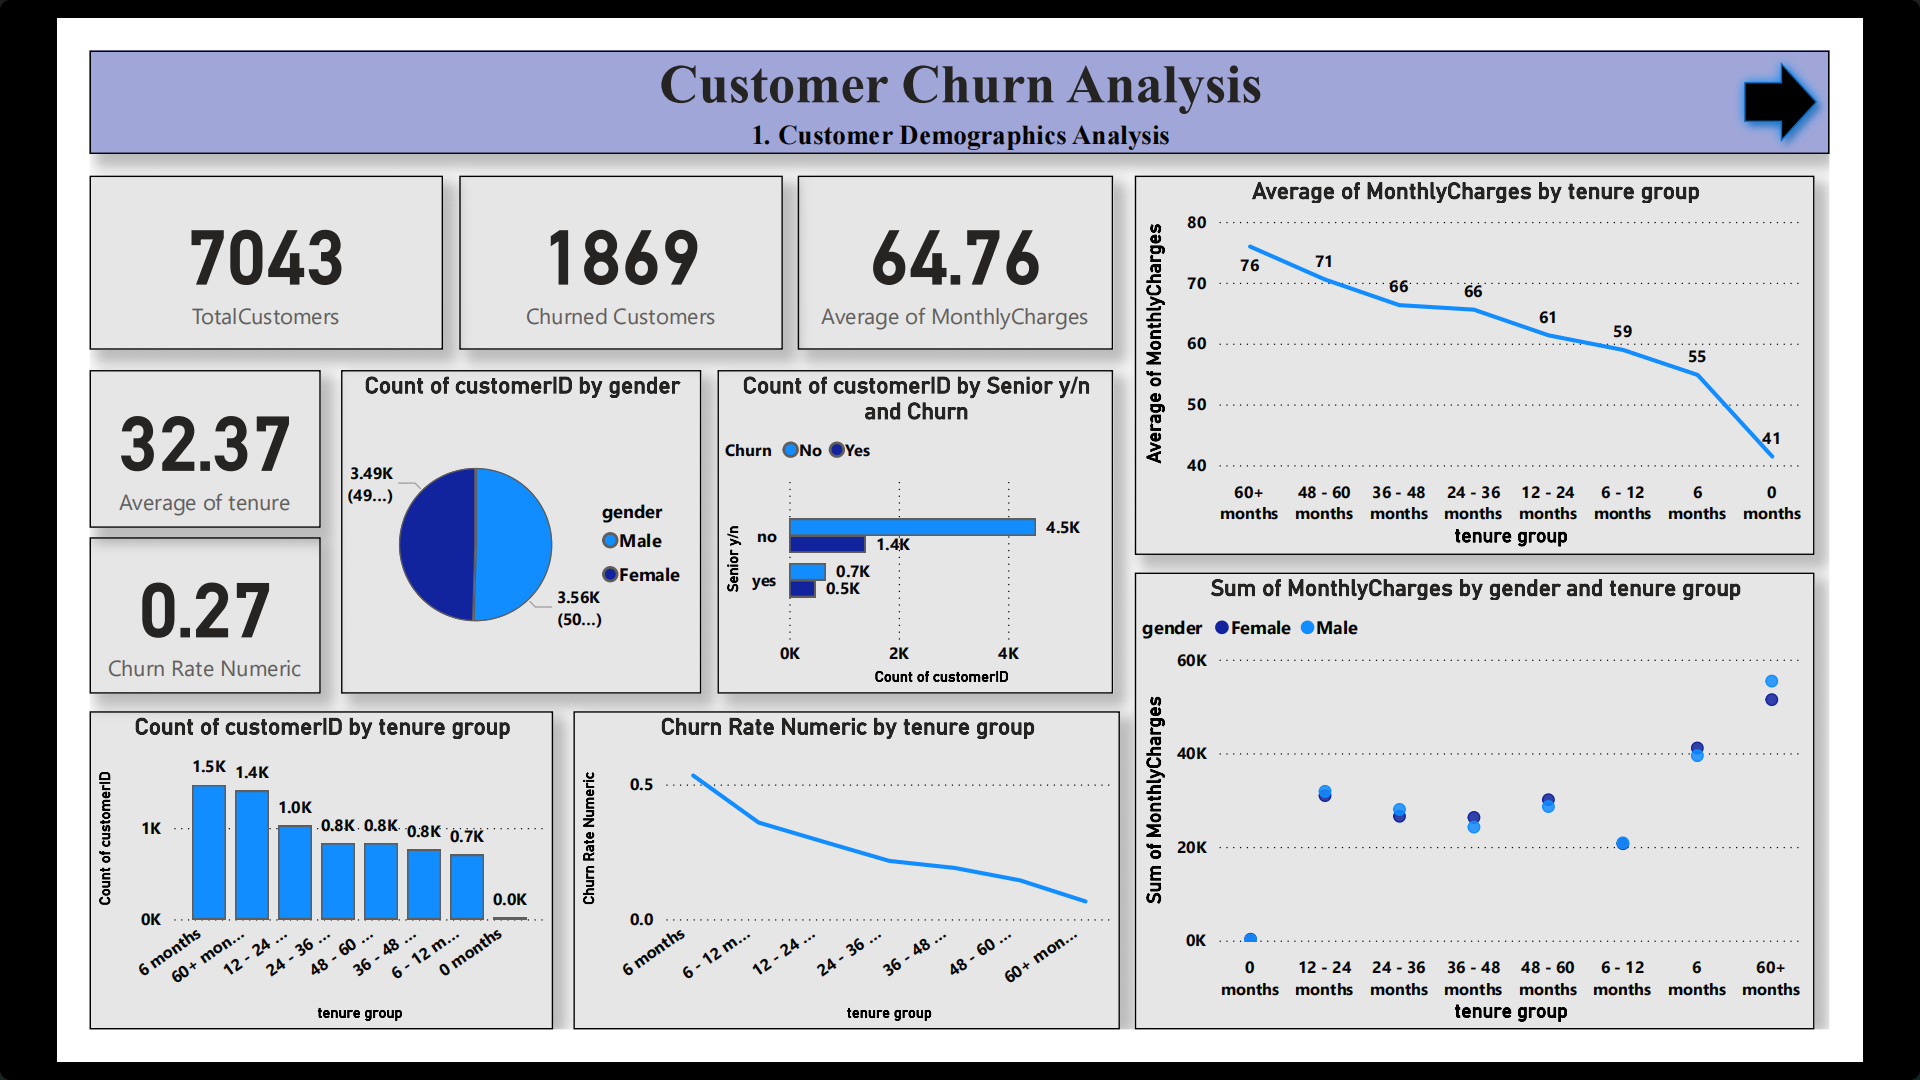

What the dashboard file says about the page in this screenshot:
{"tool":"powerbi","page":{"name":"Page 1","canvas":[1280,720],"ordinal":0},"visuals":[{"type":"textbox","title":"Customer Churn Analysis","box":[0,0,1280,75.9],"z":0},{"type":"pieChart","fields":{"Category":["WA_Fn-UseC_-Telco-Customer-Churn.gender"],"Y":["CountNonNull(WA_Fn-UseC_-Telco-Customer-Churn.customerID)"]},"box":[185.3,235.1,265,237.6],"z":1000},{"type":"clusteredBarChart","fields":{"Category":["Data set.Senior y/n"],"Series":["Data set.Churn"],"Y":["CountNonNull(Data set.customerID)"]},"box":[461.5,235.1,291.1,237.6],"z":2000},{"type":"clusteredColumnChart","fields":{"Y":["CountNonNull(Data set.customerID)"],"Category":["Data set.tenure group"]},"box":[0,486.4,340.8,233.9],"z":3000},{"type":"card","fields":{"Values":["Data set.Churn Rate Numeric"]},"box":[0,358.3,170.4,114.4],"z":4000},{"type":"card","fields":{"Values":["Avg(Data set.MonthlyCharges)"]},"box":[521.2,92.1,231.4,128.1],"z":5000},{"type":"card","fields":{"Values":["Data set.Churned Customers"]},"box":[272.4,92.1,237.6,128.1],"z":6000},{"type":"card","fields":{"Values":["Data set.TotalCustomers"]},"box":[0,92.1,260,128.1],"z":7000},{"type":"card","fields":{"Values":["Avg(Data set.tenure)"]},"box":[0,235.1,170.4,115.7],"z":8000},{"type":"lineChart","fields":{"Category":["Data set.tenure group"],"Y":["Data set.Churn Rate Numeric"]},"box":[355.8,486.4,401.8,233.9],"z":9000},{"type":"lineChart","fields":{"Category":["Data set.tenure group"],"Y":["Avg(Data set.MonthlyCharges)"]},"box":[768.8,92.1,500.1,278.6],"z":10000},{"type":"scatterChart","fields":{"Series":["Data set.gender"],"Y":["Sum(Data set.MonthlyCharges)"],"X":["Data set.tenure group"]},"box":[768.8,384.4,500.1,335.9],"z":11000},{"type":"shape","box":[1209.1,0,70.9,75.9],"z":12000}]}

Visuals, with their boxes in screenshot pixels (x1, y1, x2, y2), scaled from the page's 1280x720 canvas onto the 1920x1080 screenshot:
"Customer Churn Analysis" textbox: bbox(0, 0, 1919, 114)
pieChart - WA_Fn-UseC_-Telco-Customer-Churn.gender x CountNonNull(WA_Fn-UseC_-Telco-Customer-Churn.customerID): bbox(278, 353, 675, 709)
clusteredBarChart - Data set.Senior y/n x Data set.Churn: bbox(692, 353, 1129, 709)
clusteredColumnChart - CountNonNull(Data set.customerID) x Data set.tenure group: bbox(0, 730, 511, 1079)
card - Data set.Churn Rate Numeric: bbox(0, 537, 256, 709)
card - Avg(Data set.MonthlyCharges): bbox(782, 138, 1129, 330)
card - Data set.Churned Customers: bbox(409, 138, 765, 330)
card - Data set.TotalCustomers: bbox(0, 138, 390, 330)
card - Avg(Data set.tenure): bbox(0, 353, 256, 526)
lineChart - Data set.tenure group x Data set.Churn Rate Numeric: bbox(534, 730, 1136, 1079)
lineChart - Data set.tenure group x Avg(Data set.MonthlyCharges): bbox(1153, 138, 1903, 556)
scatterChart - Data set.gender x Sum(Data set.MonthlyCharges): bbox(1153, 577, 1903, 1079)
shape: bbox(1814, 0, 1919, 114)
